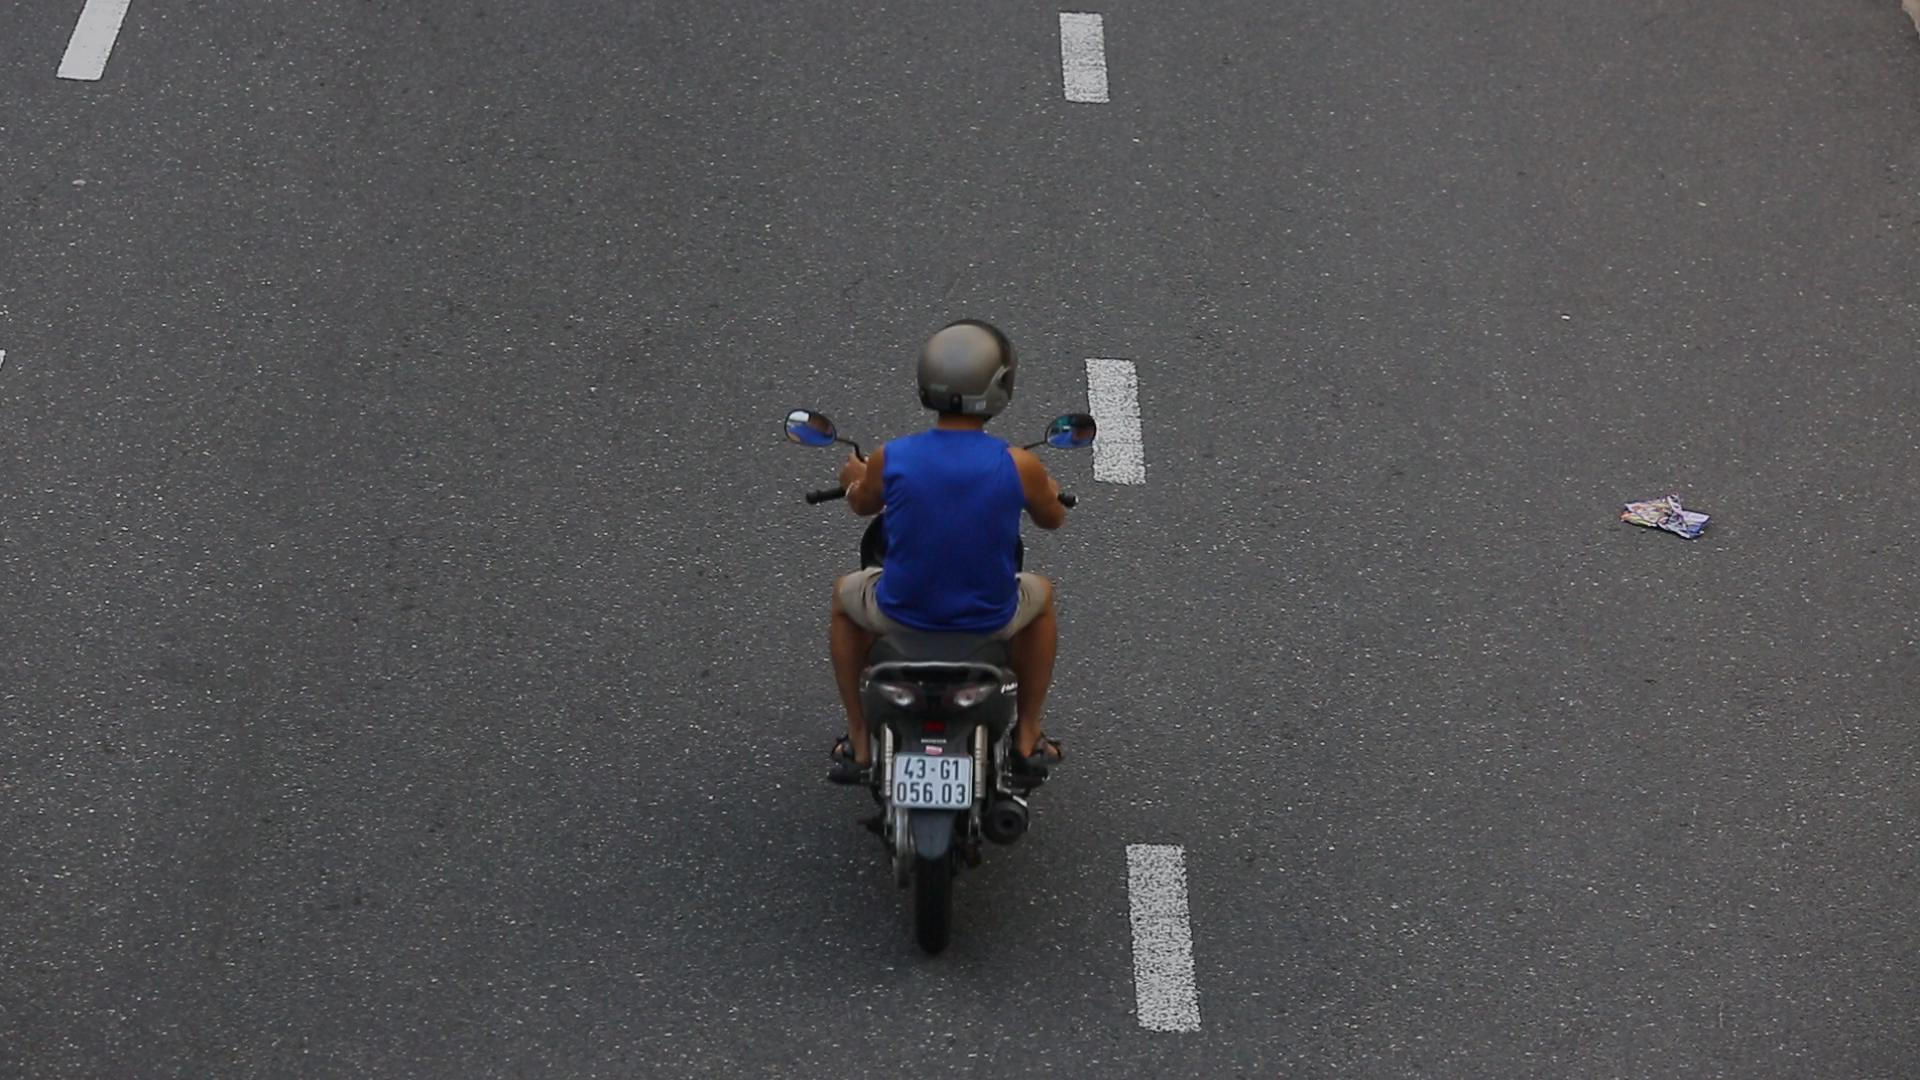motobike: (737, 287, 1113, 964)
